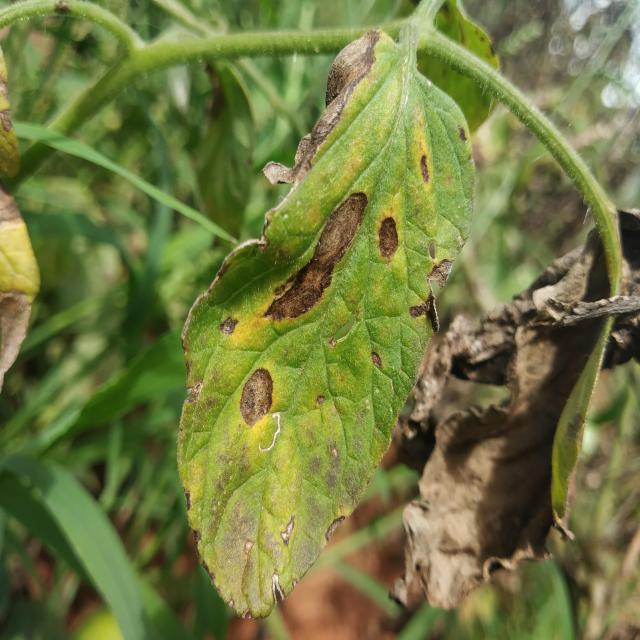Early Blight: (25, 164, 627, 463)
